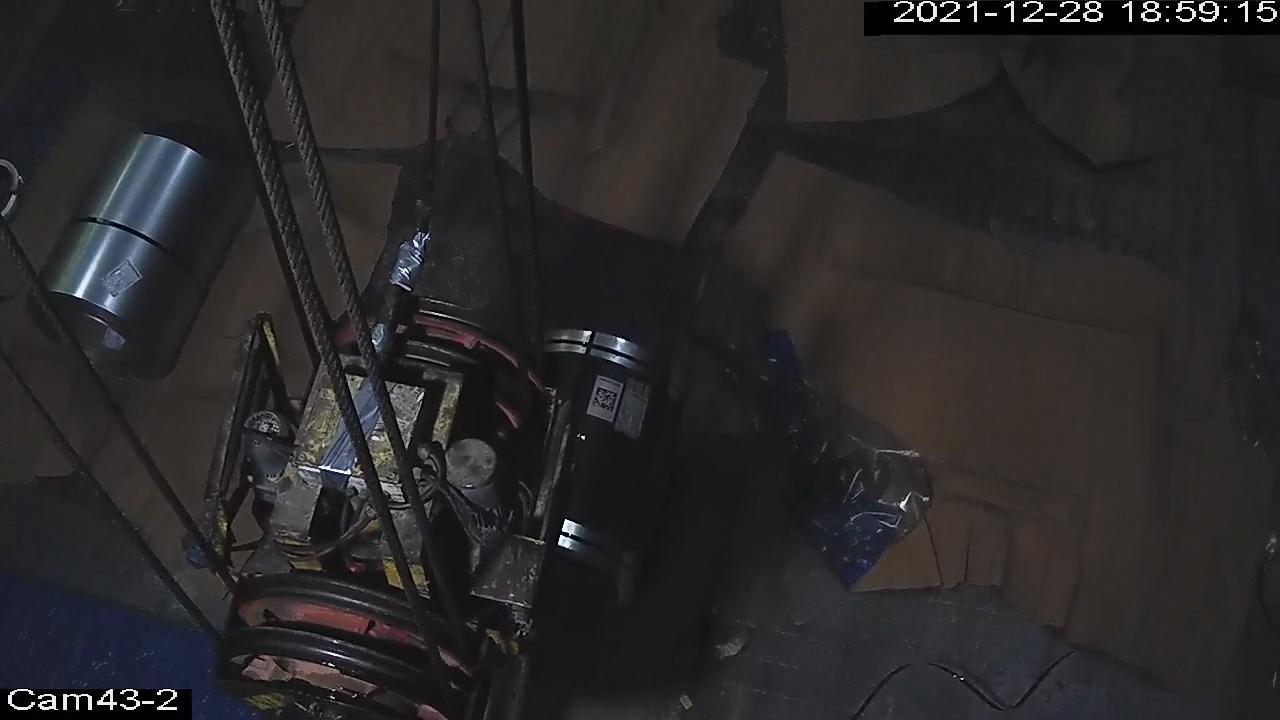data matrix: (588, 384, 623, 417)
